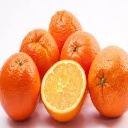orange: (87, 45, 128, 120)
